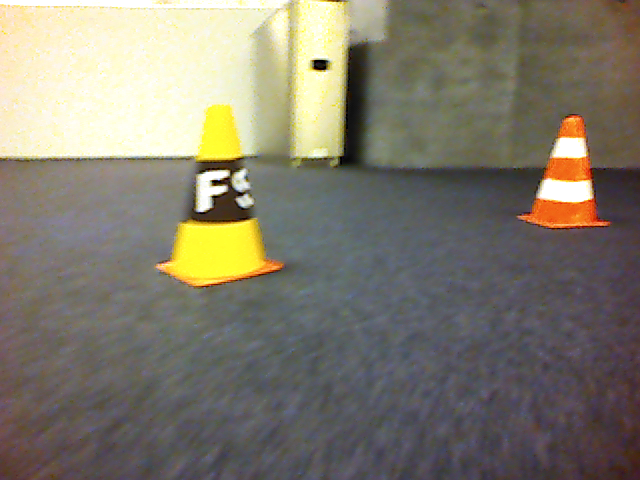orangeconesmall: (515, 111, 614, 230)
yellowcone: (151, 103, 289, 290)
